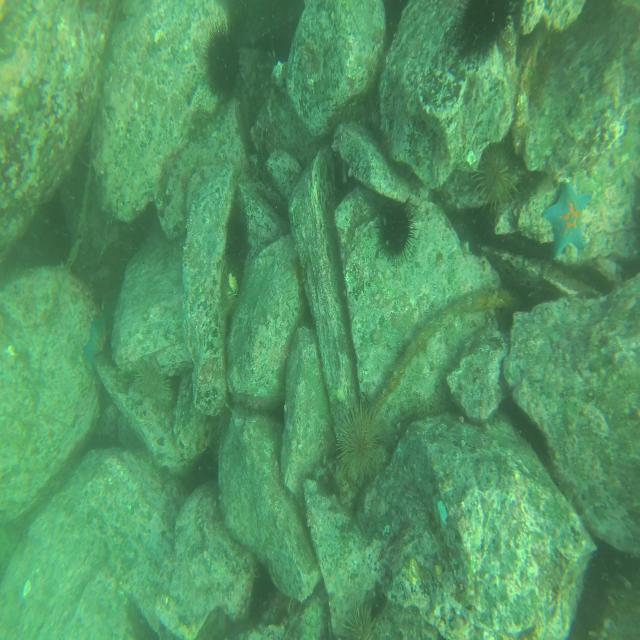echinus: (335, 399, 383, 479), (454, 3, 522, 58), (476, 137, 518, 208), (204, 21, 241, 91), (379, 194, 415, 264), (339, 602, 387, 640)
starfish: (542, 175, 596, 258), (86, 321, 110, 374)
